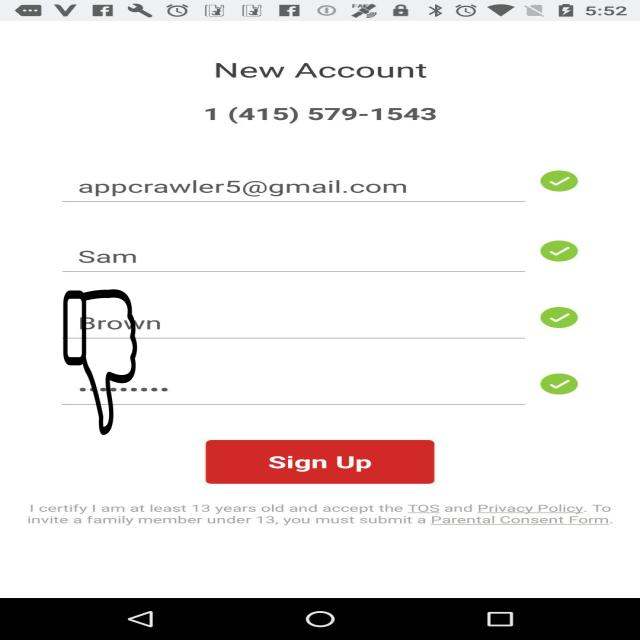obstruction: (62, 289, 138, 435)
